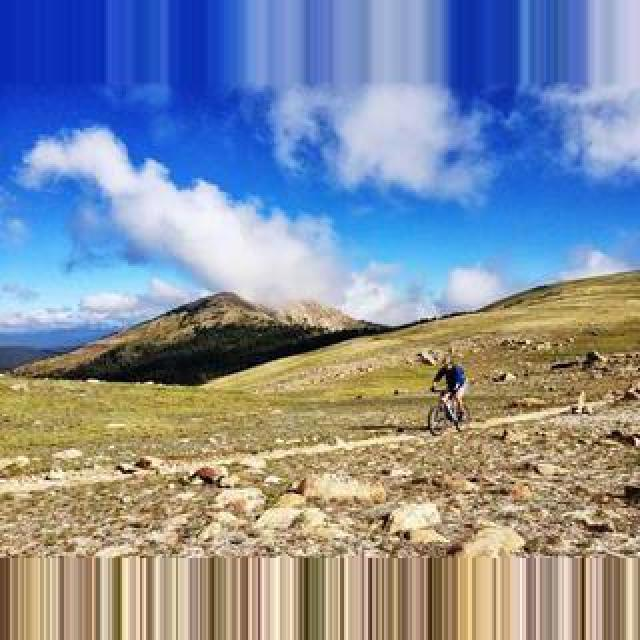MC-Bike: (430, 352, 468, 426)
Person: (425, 385, 471, 435)
